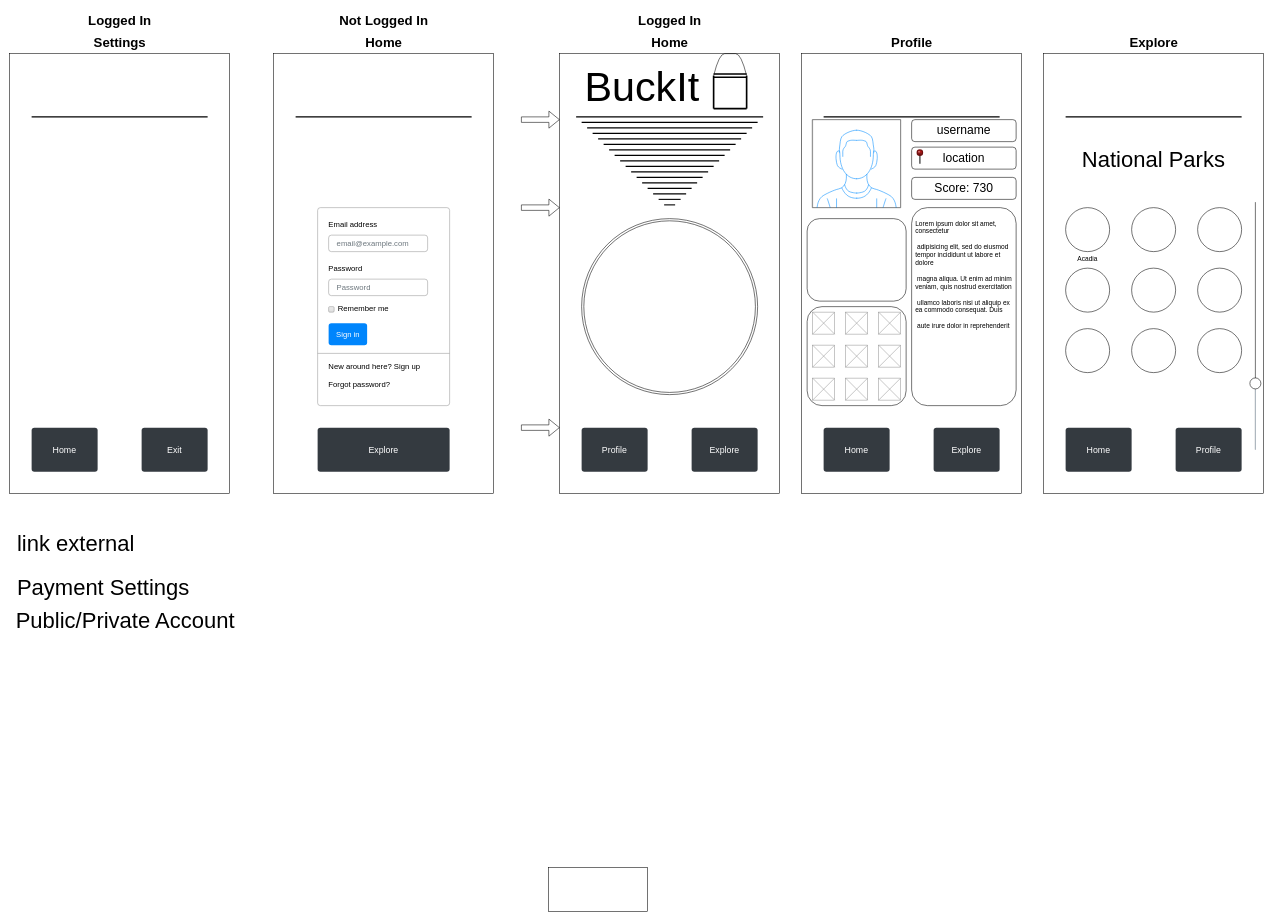
Image size: 1273x921. Some labels were removed from this diagram. The shapes that lost their labels are listed below. From the top down, each one's centre as x and y in pixels, then its label:
At point (856, 259): "{Heat Map}".
At point (669, 306): "Check In".
At point (598, 889): "Header 1 Header 2 row 1, cell 1 row 1, cell 2 row 2, cell 1 row 2, cell 2".
